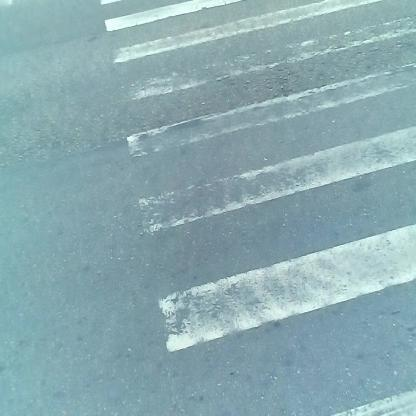crosswalk: (82, 1, 416, 342)
